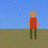person: (27, 10, 40, 39)
